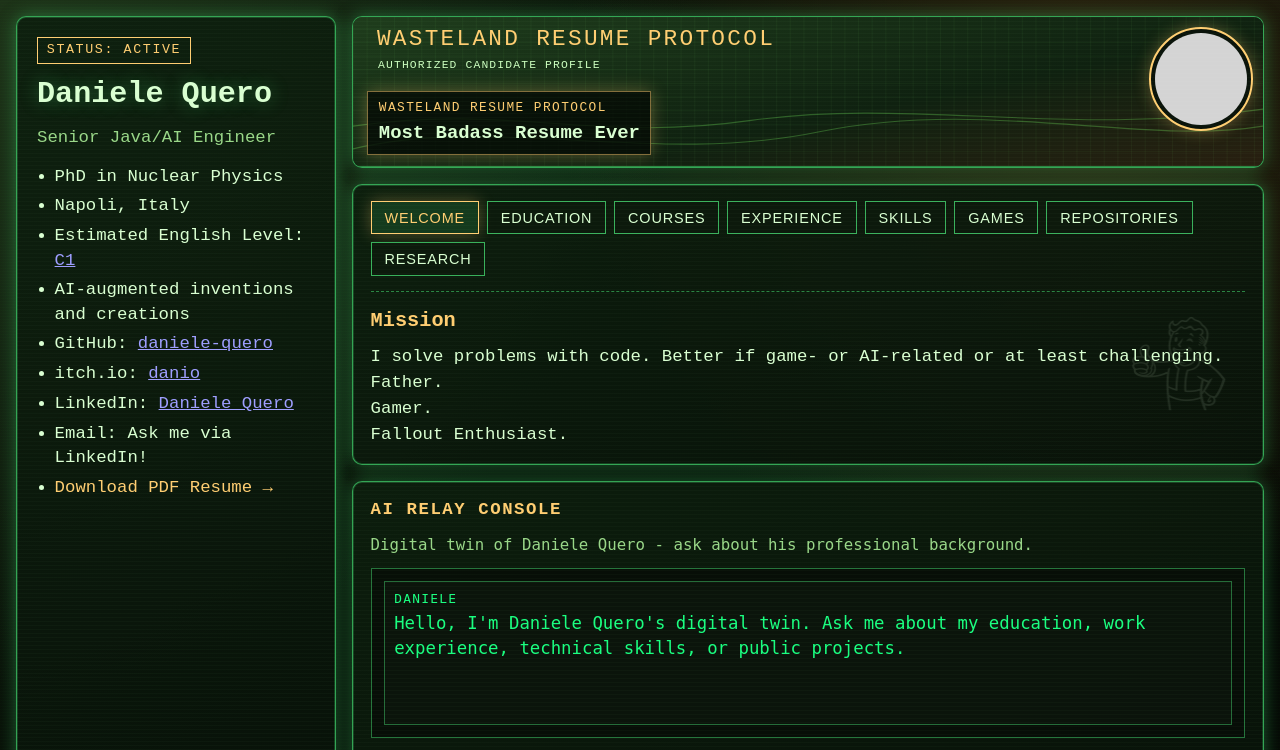
App - chat visibility by active tab › renders Certificate as clickable label in Courses without showing raw URL text
Click the tab "Courses": coordinates (667, 218) [614, 201, 719, 234]
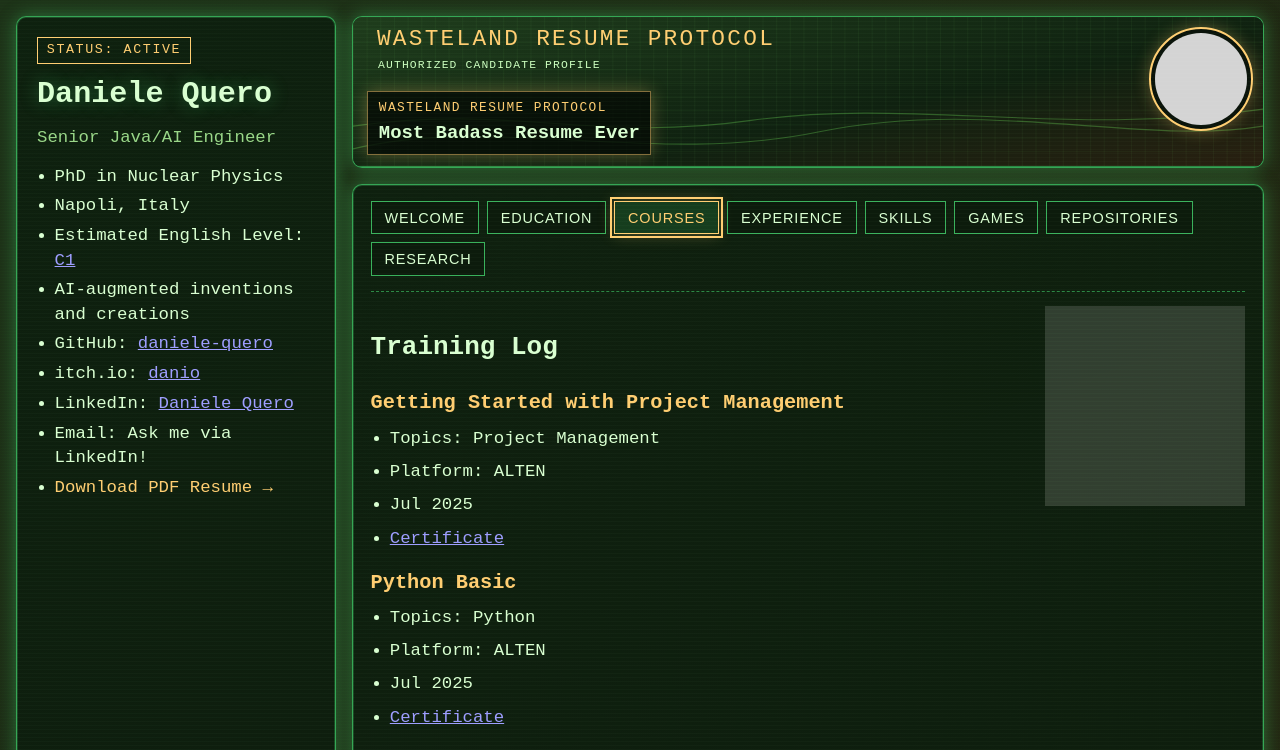
Now the link "Certificate" below "Topics: Project Management" is shown, box [390, 528, 504, 548]
